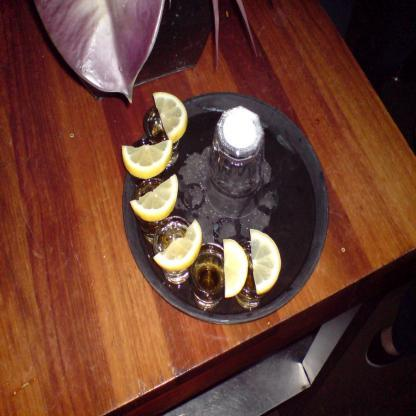lemon: (152, 218, 203, 272), (129, 173, 179, 222), (121, 139, 173, 180), (250, 228, 281, 295), (153, 91, 188, 144), (223, 238, 249, 298)
